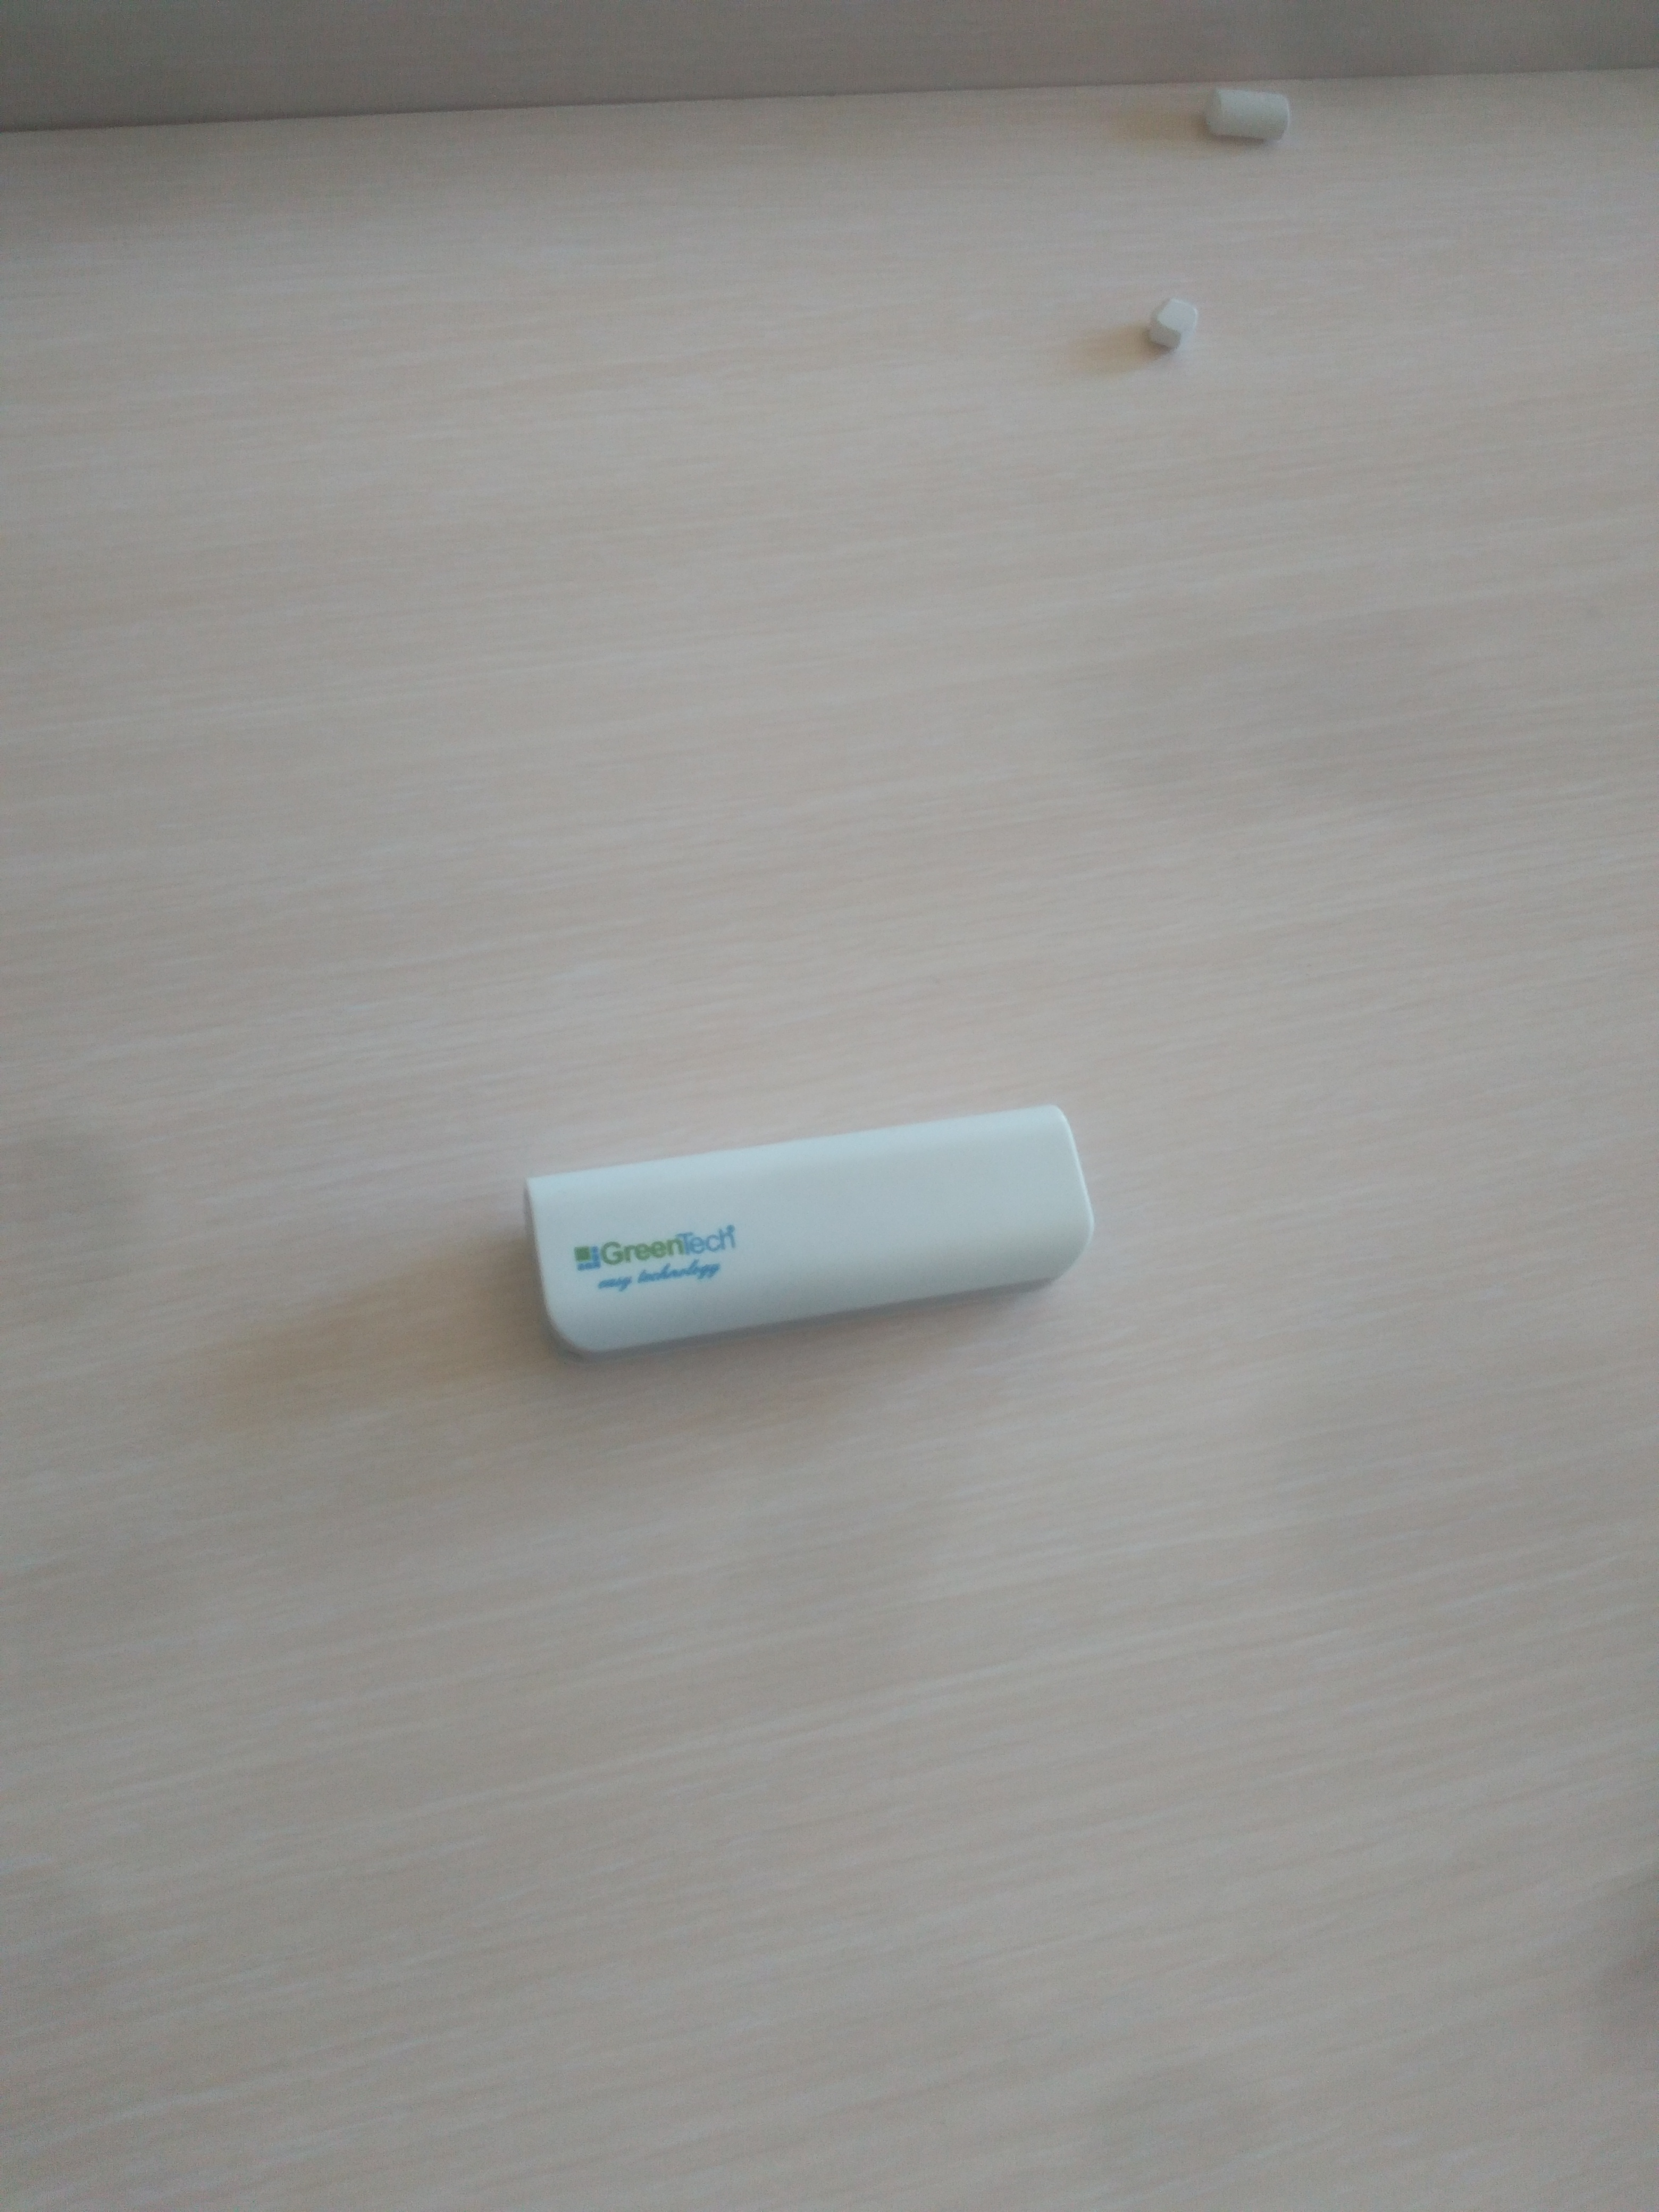powerbank: (474, 1099, 1185, 1378)
